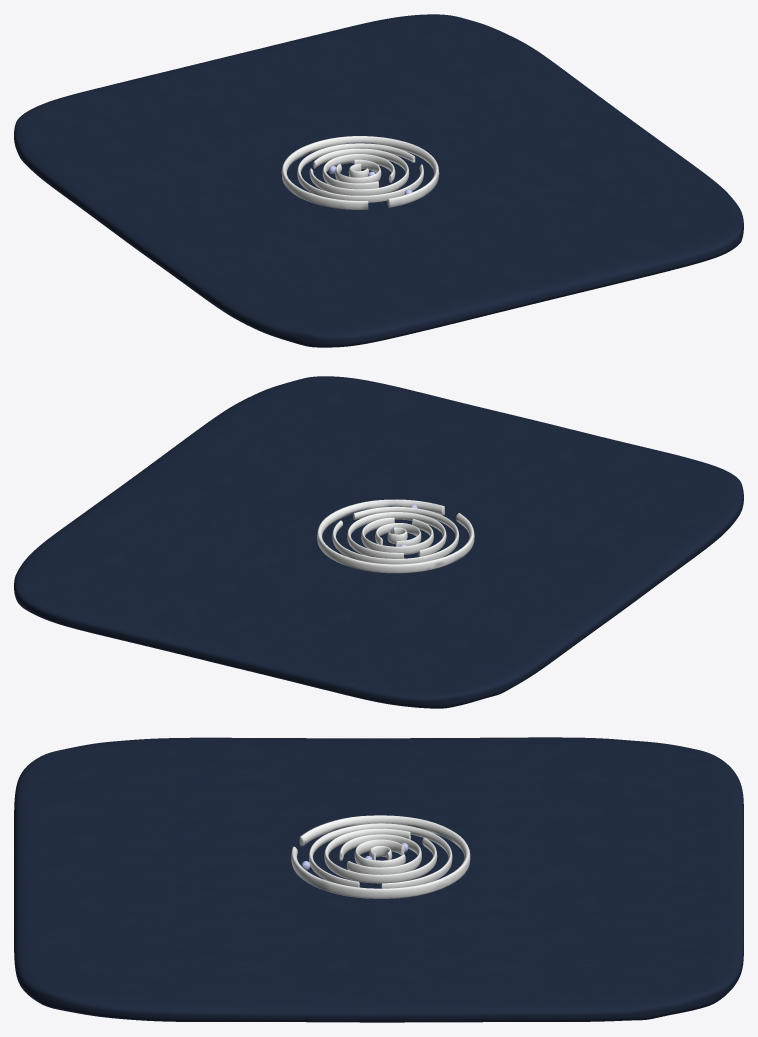
Rendered from final_lab_17022022.fbx.
3 views of the same model, one above another, from view 1: azimuth 30°, elevation 25°; view 2: azimuth 150°, elevation 25°; view 3: azimuth 270°, elevation 25° (orthographic). The views are drawn at different scales.
Parts seen in each view (by area): view 1: lab_new_low:retop1_new:pCube1_low, lab_new_low:retop1_new:retop:retop:PM3D_Ring3D6_low, lab_new_low:retop1_new:retop:retop:PM3D_Ring3D5_low, lab_new_low:retop1_new:retop:retop:PM3D_Ring3D4_low, lab_new_low:retop1_new:retop:retop:PM3D_Ring3D3_low, lab_new_low:retop1_new:retop:retop:PM3D_Ring3D2_low; view 2: lab_new_low:retop1_new:pCube1_low, lab_new_low:retop1_new:retop:retop:PM3D_Ring3D6_low, lab_new_low:retop1_new:retop:retop:PM3D_Ring3D5_low, lab_new_low:retop1_new:retop:retop:PM3D_Ring3D4_low, lab_new_low:retop1_new:retop:retop:PM3D_Ring3D3_low, lab_new_low:retop1_new:retop:retop:PM3D_Ring3D2_low; view 3: lab_new_low:retop1_new:pCube1_low, lab_new_low:retop1_new:retop:retop:PM3D_Ring3D6_low, lab_new_low:retop1_new:retop:retop:PM3D_Ring3D5_low, lab_new_low:retop1_new:retop:retop:PM3D_Ring3D4_low, lab_new_low:retop1_new:retop:retop:PM3D_Ring3D3_low, lab_new_low:retop1_new:retop:retop:PM3D_Ring3D2_low.
Boxes of the visible parts, x1=… form: lab_new_low:retop1_new:pCube1_low: x1=14, y1=14, x2=743, y2=347; lab_new_low:retop1_new:retop:retop:PM3D_Ring3D6_low: x1=281, y1=136, x2=439, y2=209; lab_new_low:retop1_new:retop:retop:PM3D_Ring3D5_low: x1=297, y1=143, x2=423, y2=202; lab_new_low:retop1_new:retop:retop:PM3D_Ring3D4_low: x1=309, y1=148, x2=409, y2=195; lab_new_low:retop1_new:retop:retop:PM3D_Ring3D3_low: x1=322, y1=154, x2=395, y2=189; lab_new_low:retop1_new:retop:retop:PM3D_Ring3D2_low: x1=335, y1=159, x2=381, y2=183; lab_new_low:retop1_new:pCube1_low: x1=14, y1=376, x2=743, y2=708; lab_new_low:retop1_new:retop:retop:PM3D_Ring3D6_low: x1=317, y1=499, x2=474, y2=573; lab_new_low:retop1_new:retop:retop:PM3D_Ring3D5_low: x1=332, y1=506, x2=459, y2=564; lab_new_low:retop1_new:retop:retop:PM3D_Ring3D4_low: x1=347, y1=512, x2=446, y2=558; lab_new_low:retop1_new:retop:retop:PM3D_Ring3D3_low: x1=361, y1=517, x2=433, y2=554; lab_new_low:retop1_new:retop:retop:PM3D_Ring3D2_low: x1=375, y1=523, x2=421, y2=546; lab_new_low:retop1_new:pCube1_low: x1=14, y1=737, x2=743, y2=1022; lab_new_low:retop1_new:retop:retop:PM3D_Ring3D6_low: x1=291, y1=815, x2=470, y2=898; lab_new_low:retop1_new:retop:retop:PM3D_Ring3D5_low: x1=309, y1=823, x2=452, y2=888; lab_new_low:retop1_new:retop:retop:PM3D_Ring3D4_low: x1=324, y1=828, x2=437, y2=883; lab_new_low:retop1_new:retop:retop:PM3D_Ring3D3_low: x1=339, y1=834, x2=421, y2=874; lab_new_low:retop1_new:retop:retop:PM3D_Ring3D2_low: x1=354, y1=839, x2=405, y2=867.
Bounding box in the file's own units: 14.14 × 0.6892 × 15.82.
